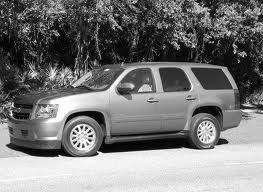car: (10, 63, 243, 158)
